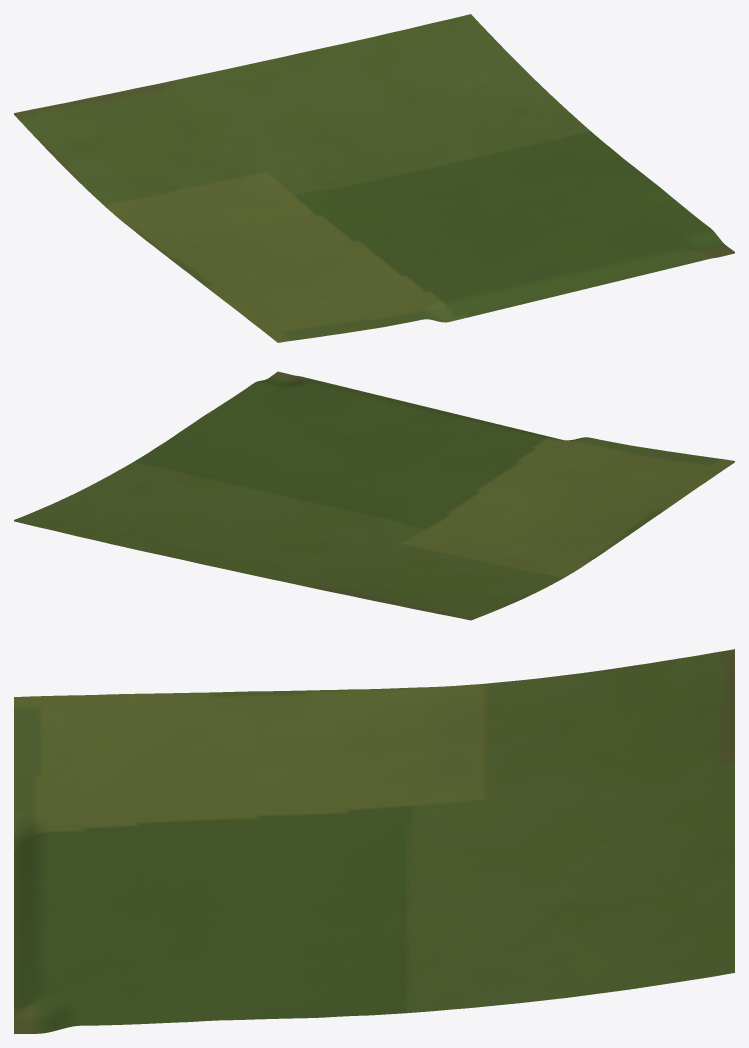
Rendered from land_n_01_01.glb.
3 renders of one model, top to bottom at view 1: azimuth 30°, elevation 25°; view 2: azimuth 150°, elevation 25°; view 3: azimuth 270°, elevation 25°, orthographic. The views are drawn at different scales.
Visible parts, largest first — view 1: land_n_01_01; view 2: land_n_01_01; view 3: land_n_01_01.
Boxes of the visible parts, bbox=[...] form: land_n_01_01: bbox=[14, 14, 734, 342]; land_n_01_01: bbox=[14, 371, 734, 620]; land_n_01_01: bbox=[14, 649, 734, 1033].
Size of the model in its own units: 480 by 58.83 by 480.
